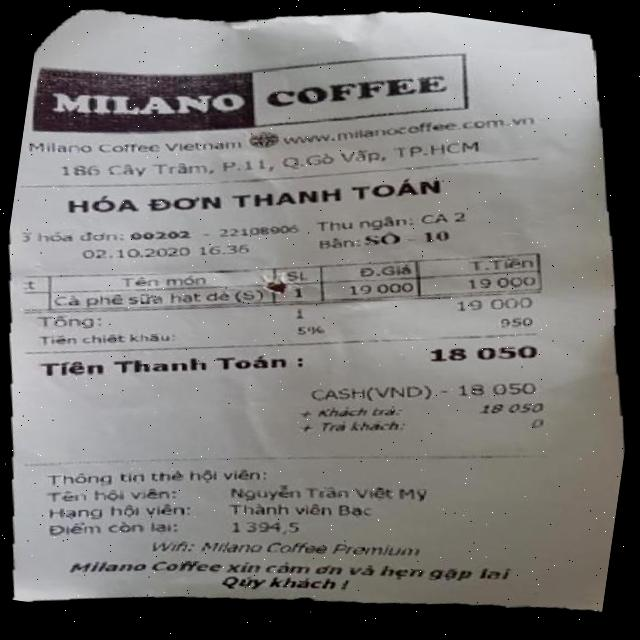Date: (75, 228, 200, 276)
Store_Name: (32, 3, 482, 184)
amount_number: (418, 324, 542, 381)
label_total: (25, 316, 298, 413)
